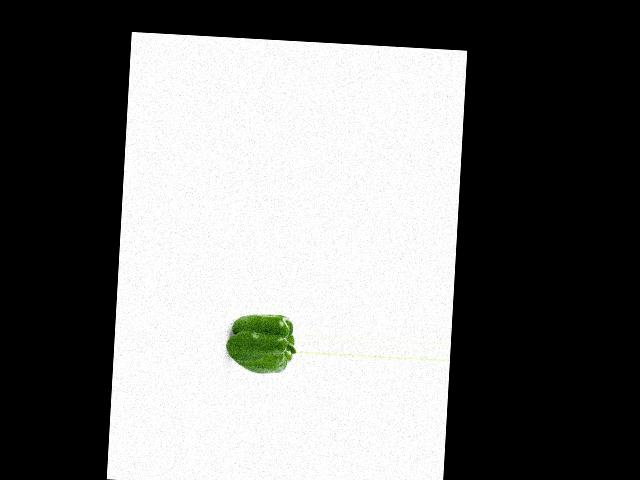bell_pepper: (227, 310, 297, 376)
